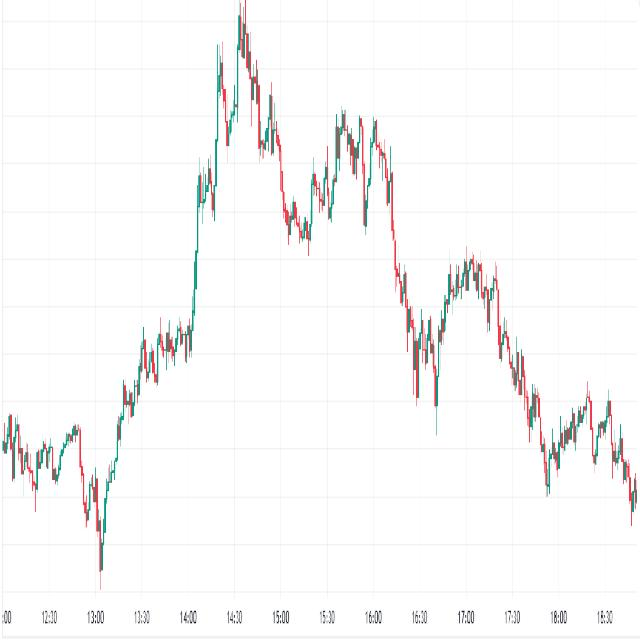Head-Shoulders: (98, 2, 438, 590)
